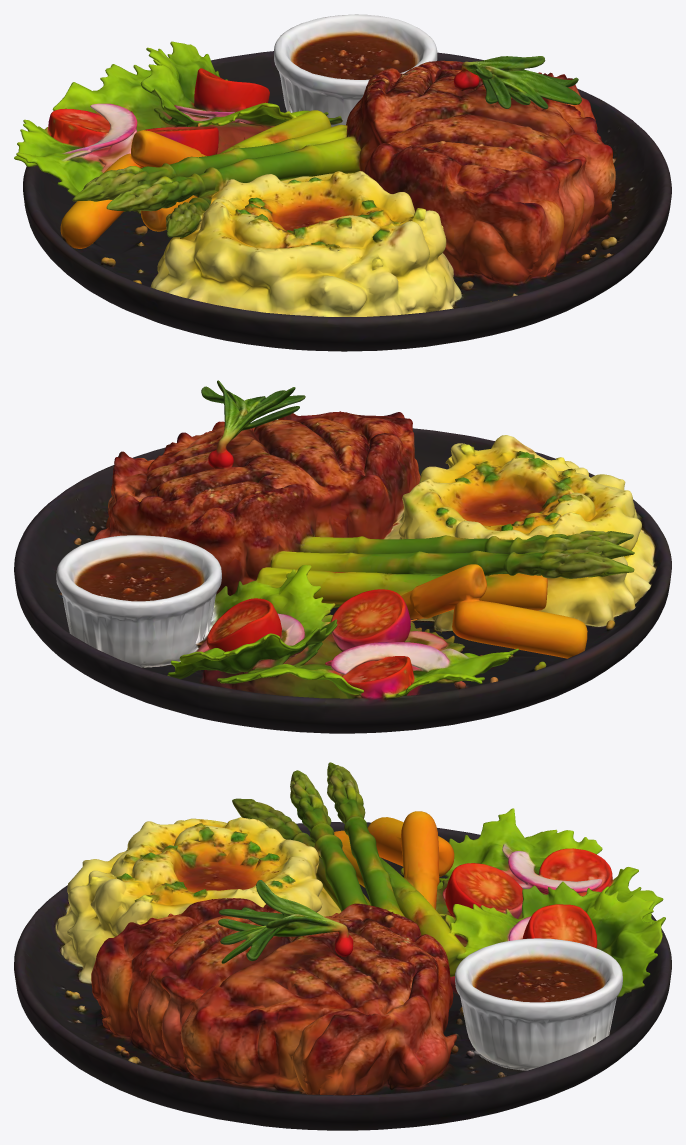
The model's file is grilled-ribeye-steak.glb.
3 renders of one model, top to bottom at view 1: azimuth 30°, elevation 25°; view 2: azimuth 150°, elevation 25°; view 3: azimuth 270°, elevation 25°, orthographic.
Parts seen in each view (by area): view 1: tripo_node_14dd2f10-4b03-4e58-b3c7-dacd6af5e87d; view 2: tripo_node_14dd2f10-4b03-4e58-b3c7-dacd6af5e87d; view 3: tripo_node_14dd2f10-4b03-4e58-b3c7-dacd6af5e87d.
Part boxes in pixels (<box>): tripo_node_14dd2f10-4b03-4e58-b3c7-dacd6af5e87d: <box>14,14,671,351</box>; tripo_node_14dd2f10-4b03-4e58-b3c7-dacd6af5e87d: <box>14,380,671,733</box>; tripo_node_14dd2f10-4b03-4e58-b3c7-dacd6af5e87d: <box>14,762,671,1130</box>.
Bounding box in the file's own units: 0.9798 × 0.2982 × 0.9791.
1 material, 1 textured.
